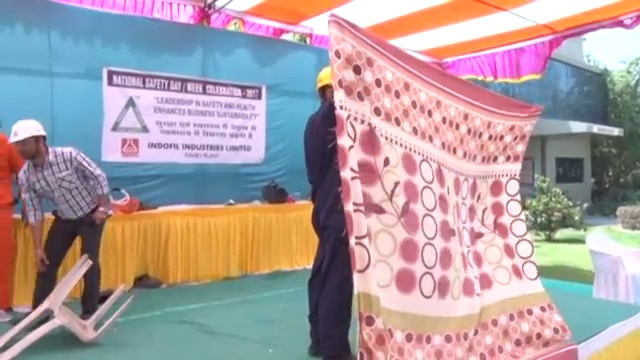helmet: (9, 117, 48, 144), (316, 64, 336, 89)
helmet_on: (6, 117, 48, 163), (316, 63, 335, 106)
person: (8, 115, 114, 319), (303, 62, 359, 360)
